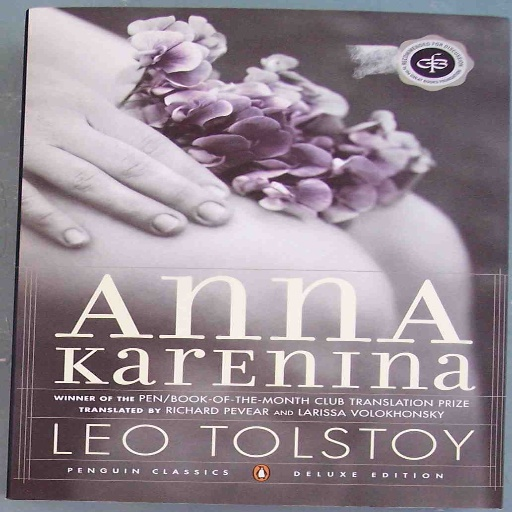hand: (17, 63, 233, 250)
